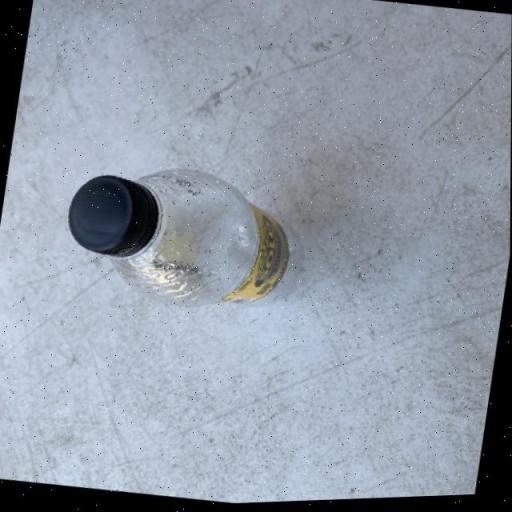plastic: (55, 149, 305, 326)
